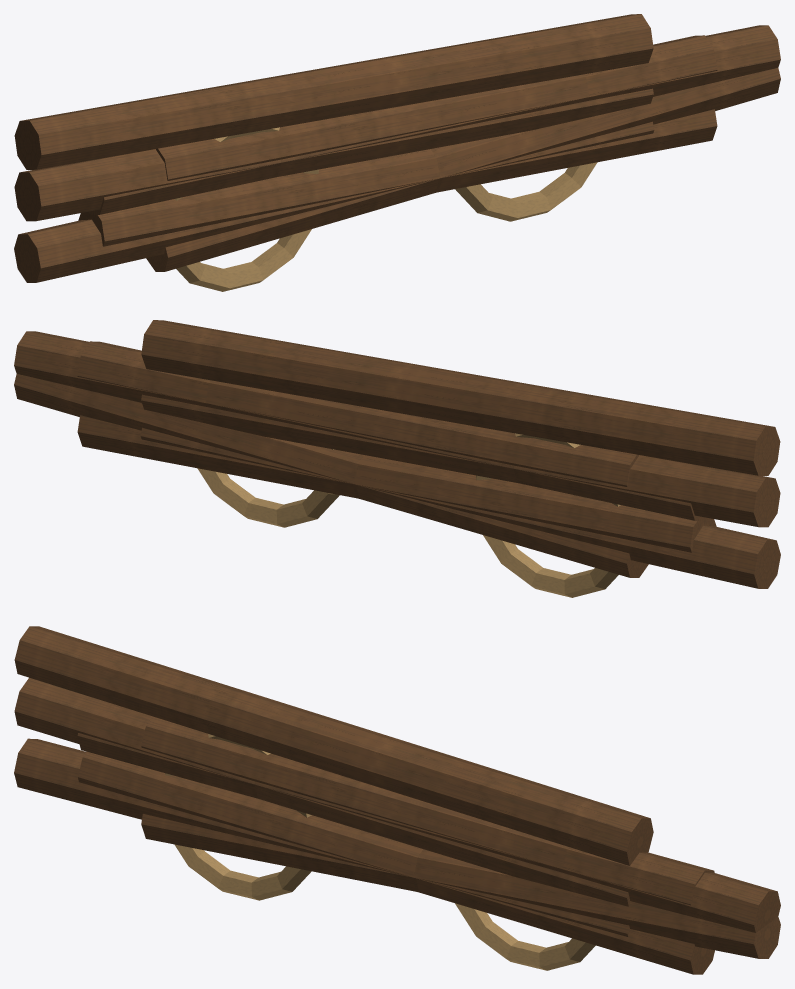
The model's file is pr-003_wood_poles_bundle__placed.obj.
3 renders of one model, top to bottom at view 1: azimuth 30°, elevation 25°; view 2: azimuth 150°, elevation 25°; view 3: azimuth 330°, elevation 25°, orthographic.
Visible parts, largest first — view 1: pr-003_wood_poles_bundle__placed; view 2: pr-003_wood_poles_bundle__placed; view 3: pr-003_wood_poles_bundle__placed.
Part boxes in pixels (box(x1,y1,x2,y2)): pr-003_wood_poles_bundle__placed: box(14, 14, 780, 291); pr-003_wood_poles_bundle__placed: box(14, 320, 780, 597); pr-003_wood_poles_bundle__placed: box(14, 626, 780, 974).
Bounding box in the file's own units: 1.75 × 0.4932 × 0.11.
Materials: 2 (2 with a texture image).
